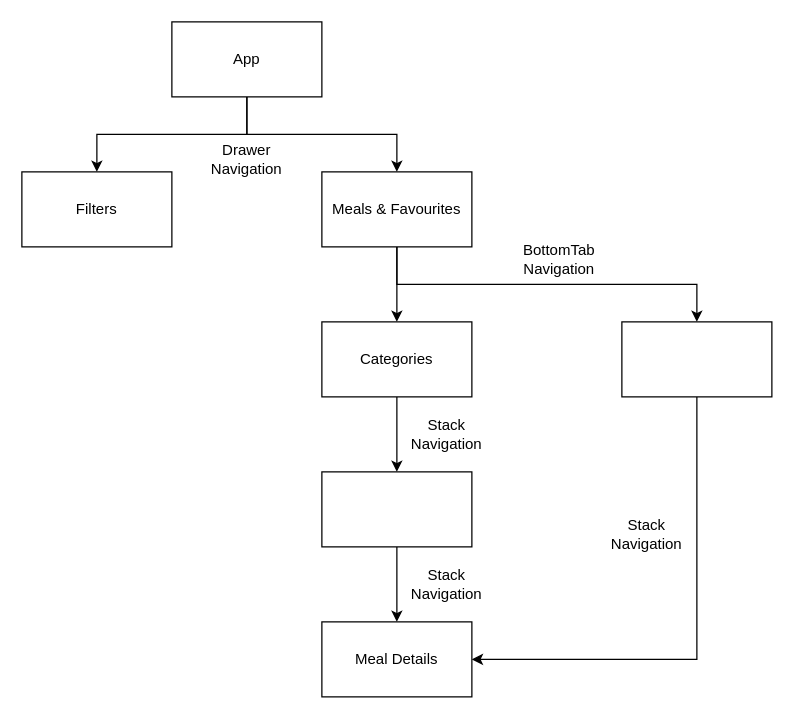
This 794x719 diagram has some shape labels left out. Each missing label, with the box of its shape:
Favoutites: (621, 321, 772, 397)
Meals: (321, 471, 472, 547)
